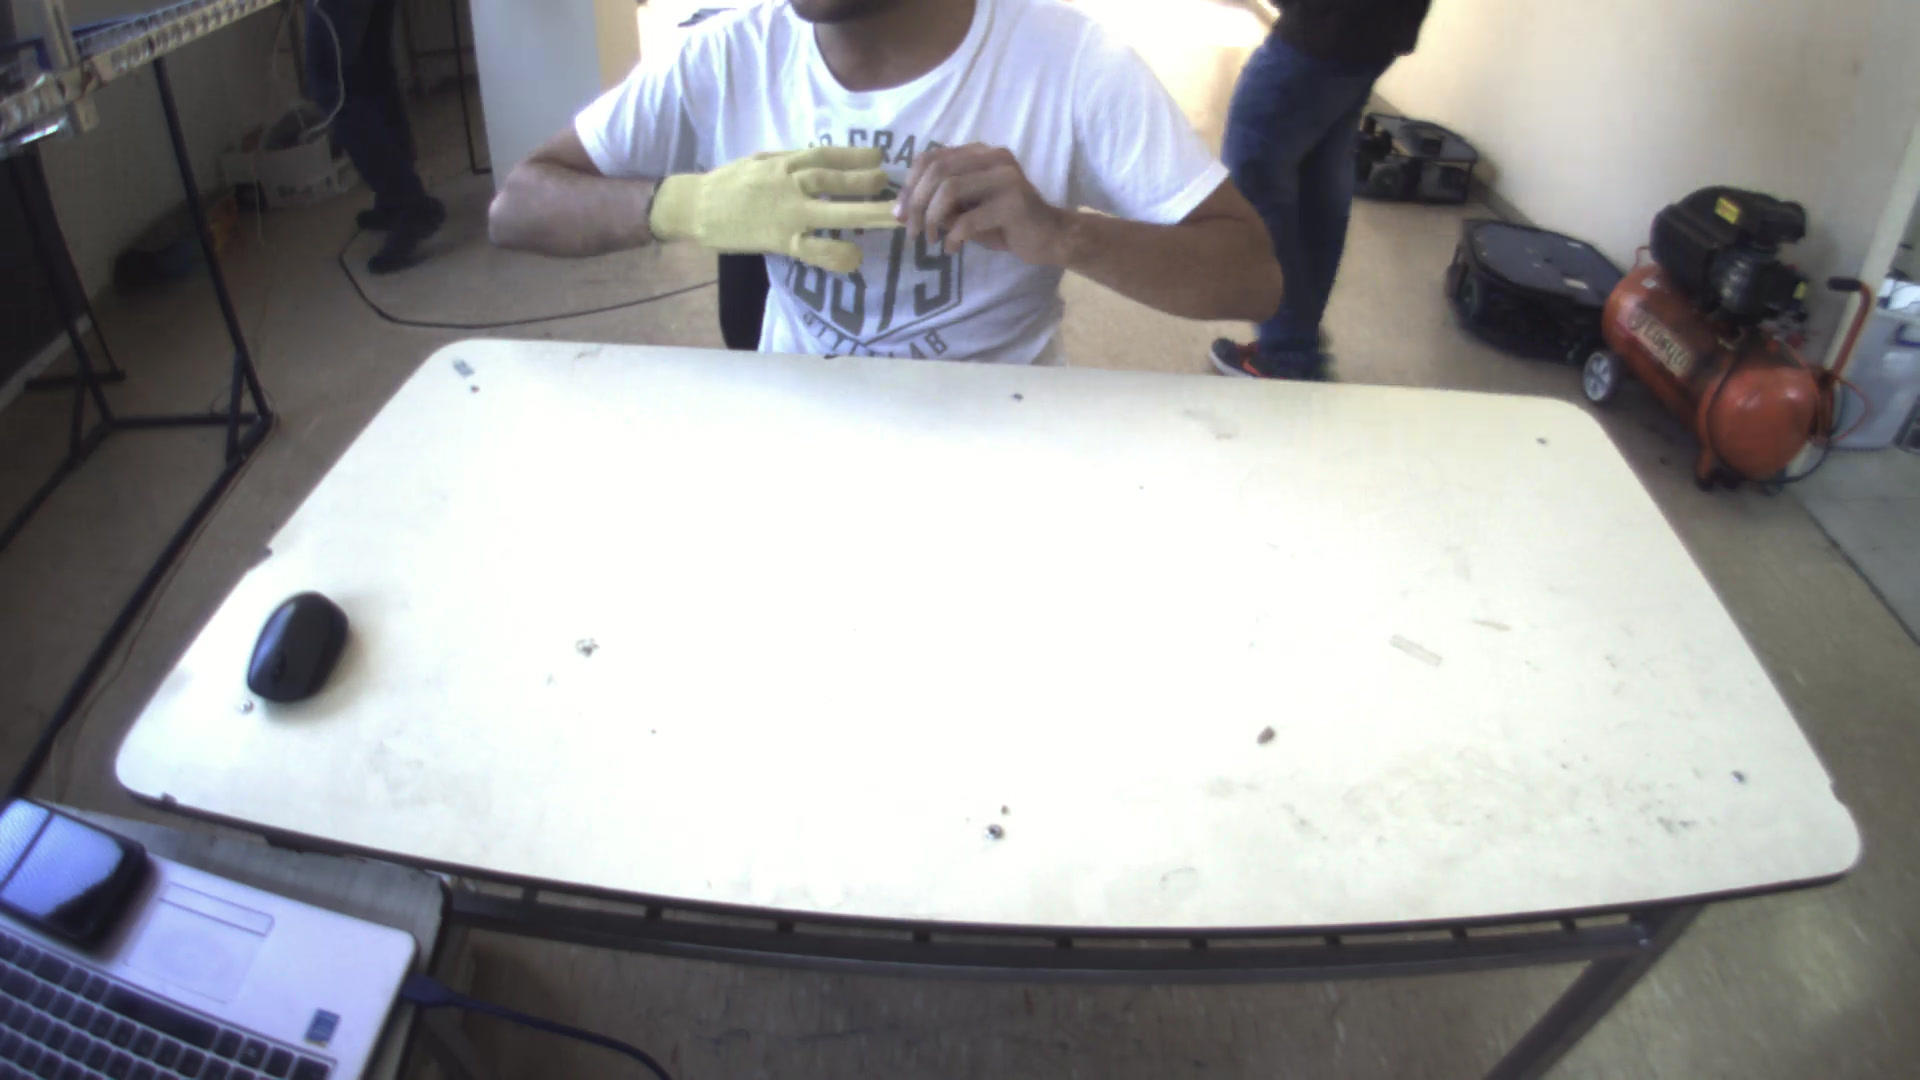hand: (642, 124, 901, 270), (886, 127, 1058, 256)
